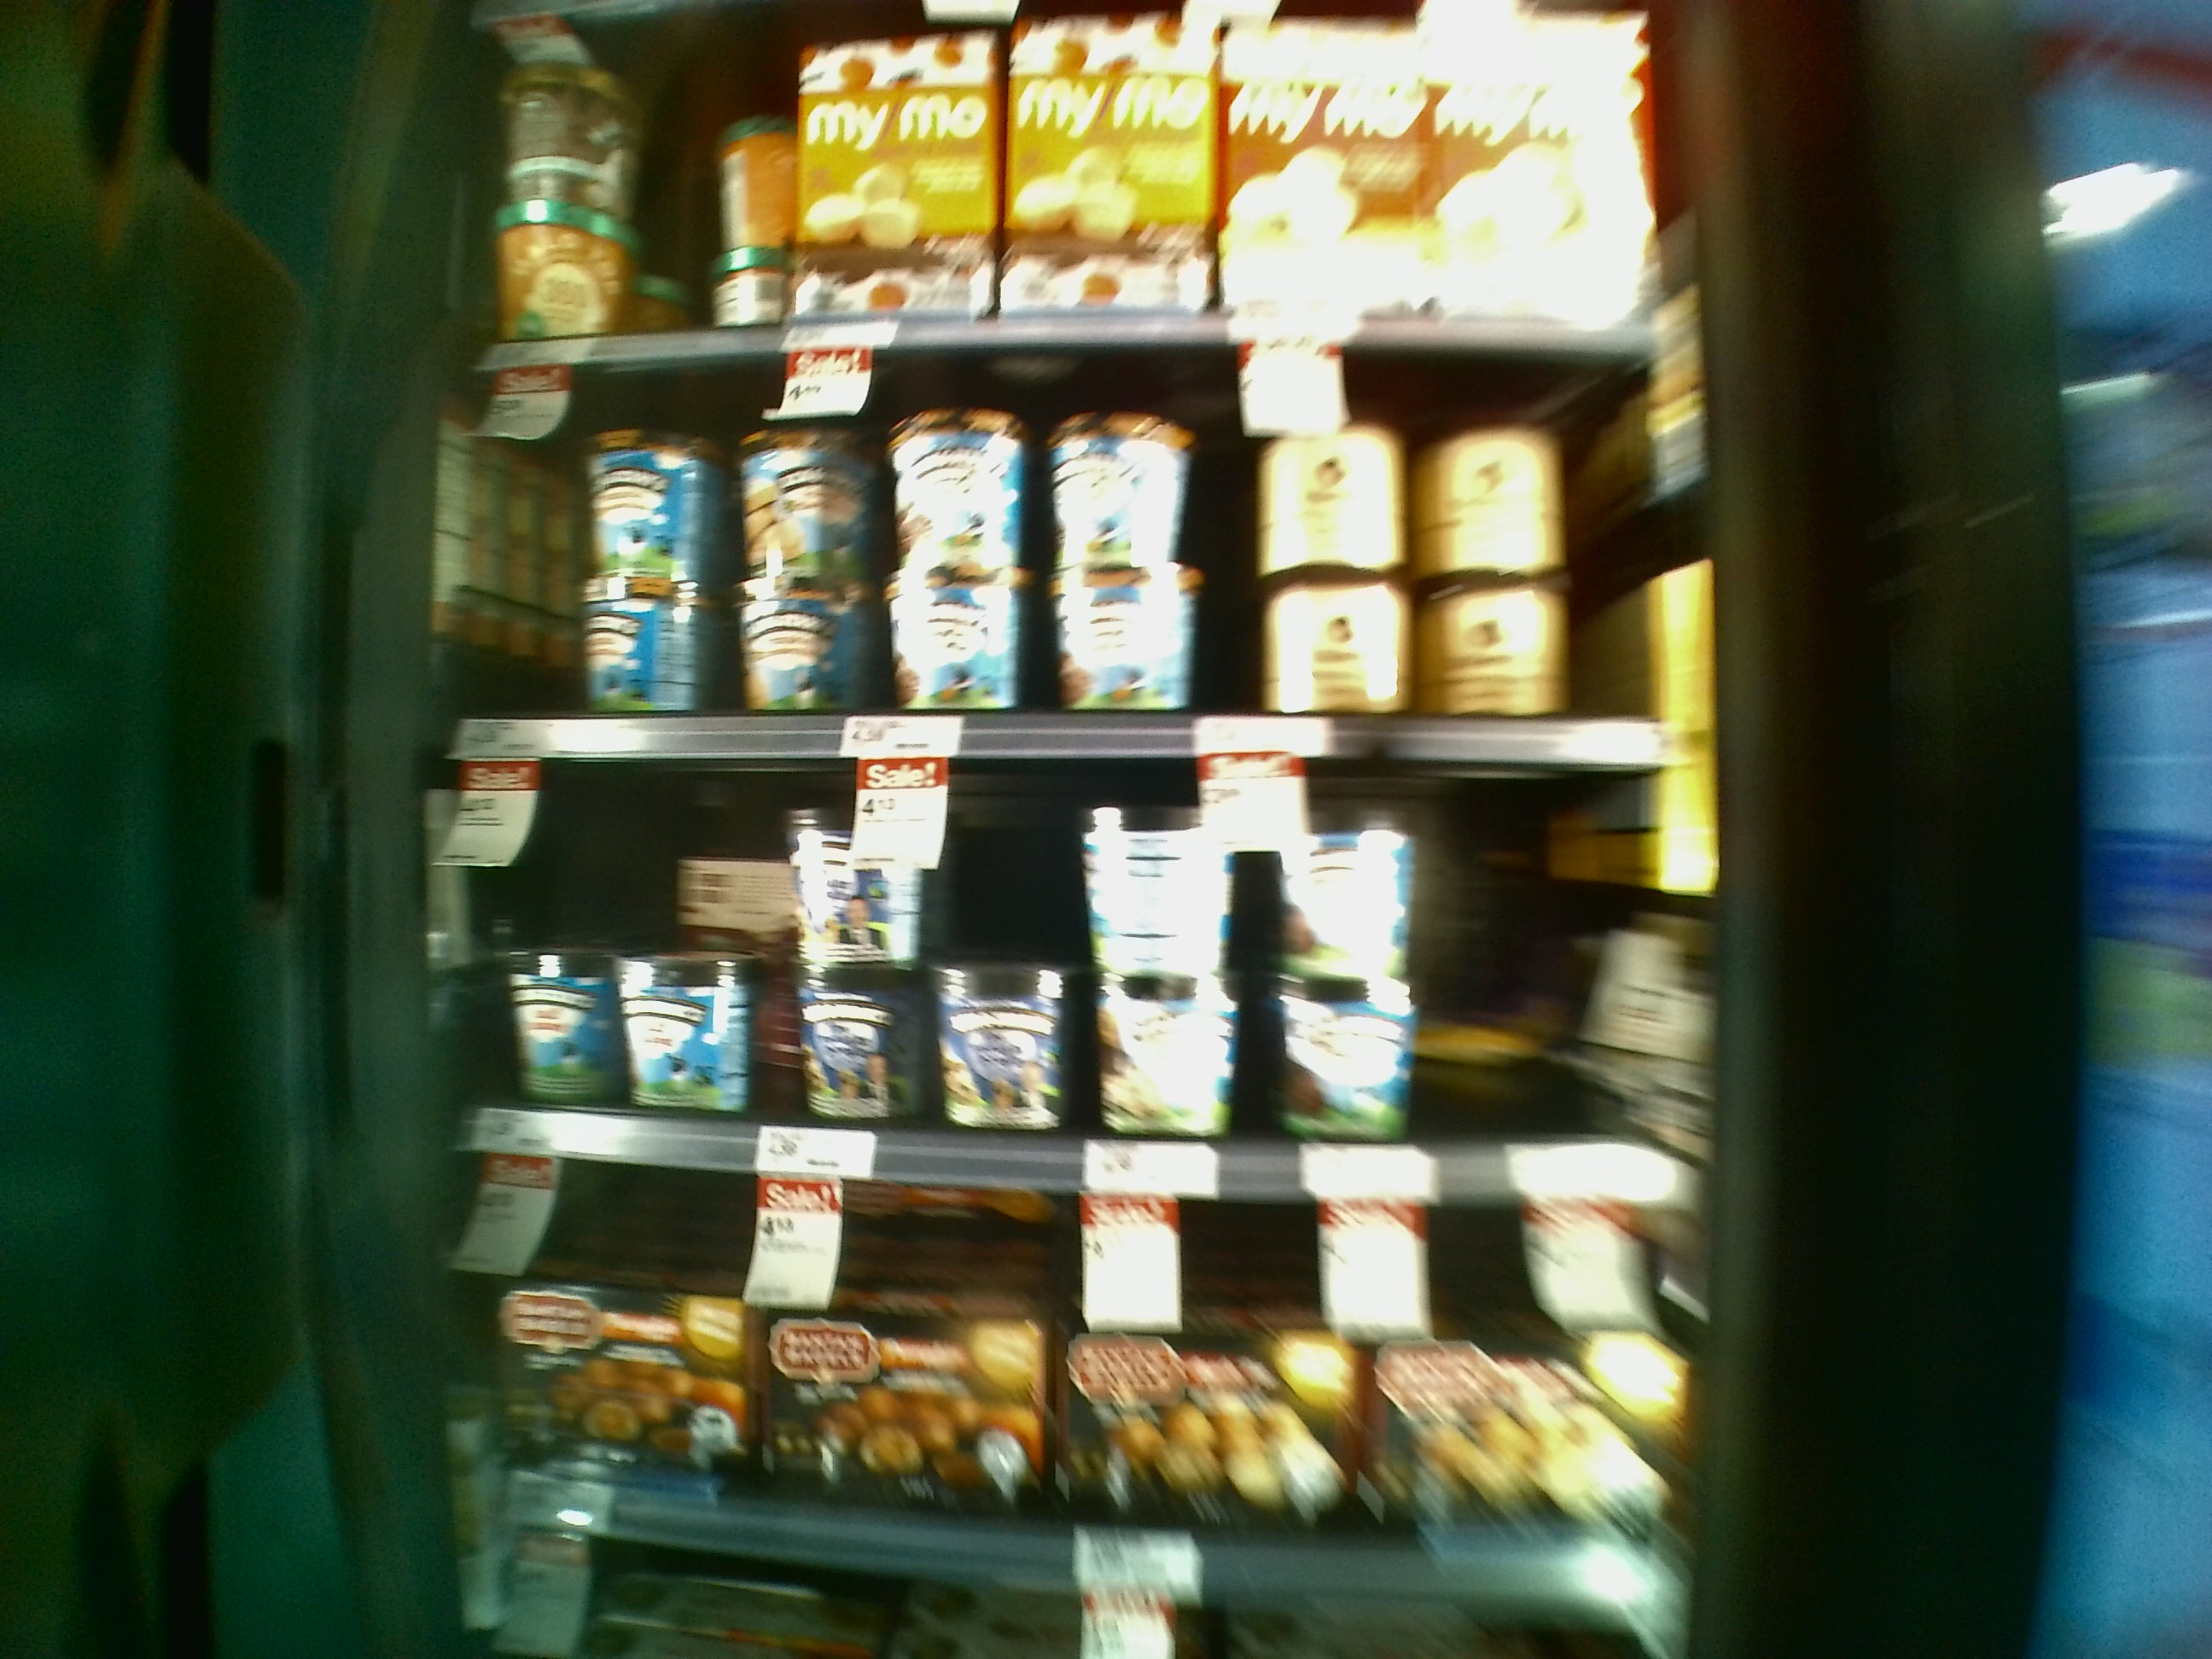shelf: (427, 735, 1689, 1204), (404, 1150, 1693, 1601), (435, 349, 1698, 769)
